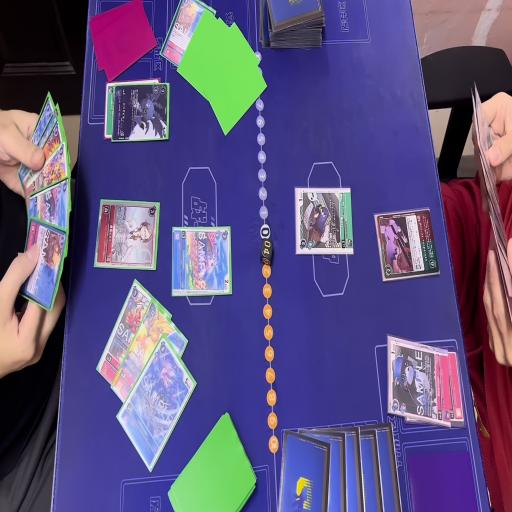card: (114, 338, 195, 475), (107, 304, 186, 405), (96, 280, 156, 384), (386, 344, 450, 422), (93, 204, 161, 273), (377, 207, 437, 285), (170, 228, 234, 296), (22, 222, 68, 315), (293, 184, 352, 255), (160, 0, 215, 68), (113, 85, 171, 149), (29, 179, 70, 256), (25, 142, 67, 212), (18, 98, 53, 182), (22, 121, 60, 193), (446, 348, 466, 430), (105, 82, 119, 140)
